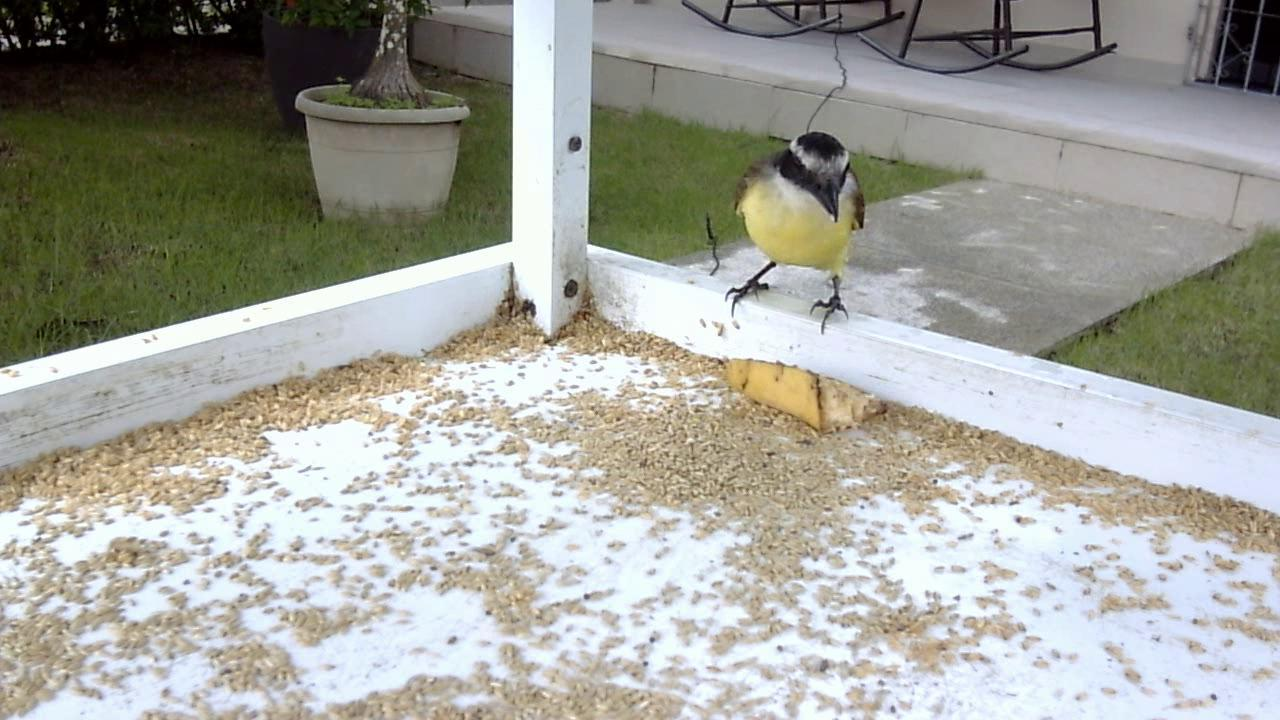bem_te_vi: (704, 108, 873, 346)
